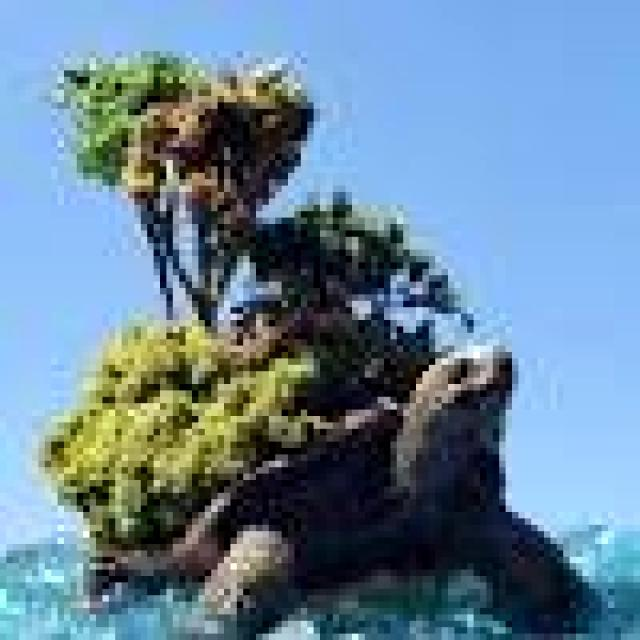Sea turtle: (57, 294, 621, 639)
